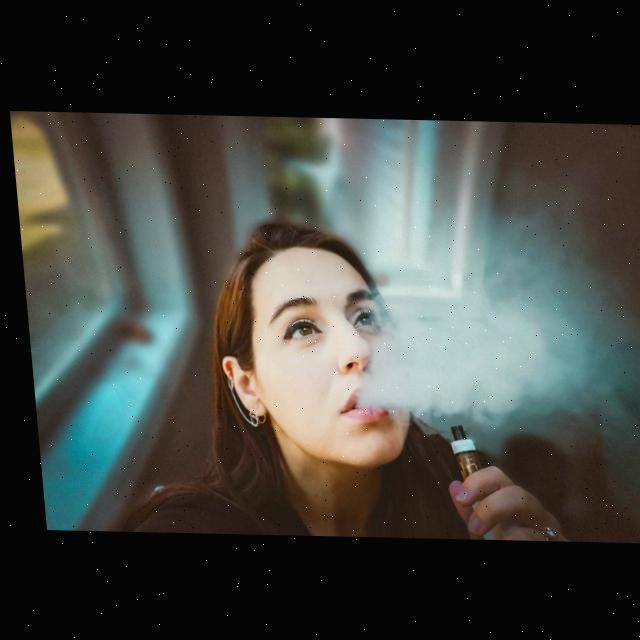vape: (442, 422, 510, 537)
